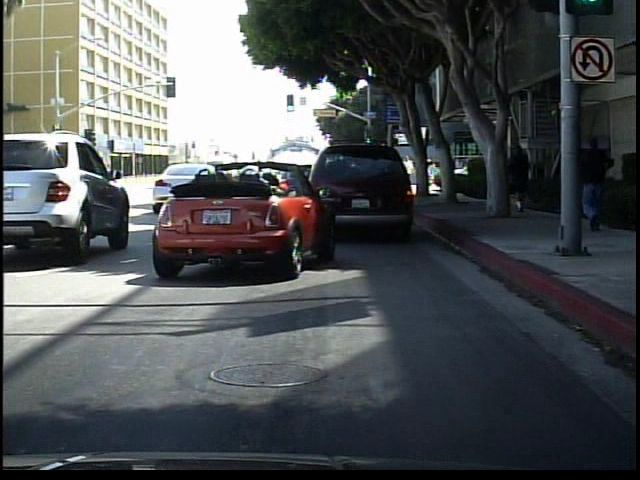person: (577, 132, 623, 239), (505, 141, 535, 213)
